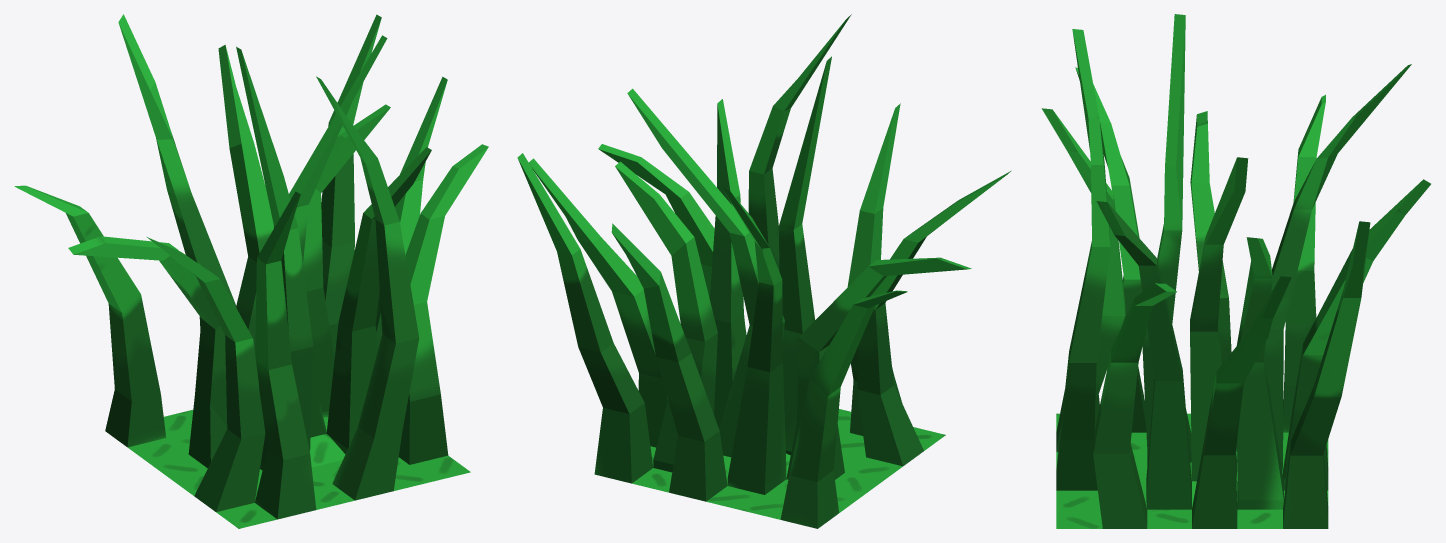
File: Copy of Grass.fbx
The picture shows the model from 3 angles, left to right: view 1: azimuth 30°, elevation 25°; view 2: azimuth 150°, elevation 25°; view 3: azimuth 270°, elevation 25°; orthographic projection. The views are drawn at different scales.
Parts seen in each view (by area): view 1: Plane; view 2: Plane; view 3: Plane.
Part boxes in pixels (x1=…): Plane: x1=14, y1=14, x2=488, y2=528; Plane: x1=517, y1=14, x2=1011, y2=528; Plane: x1=1041, y1=14, x2=1430, y2=528.
Bounding box in the file's own units: 268 × 260 × 214.
